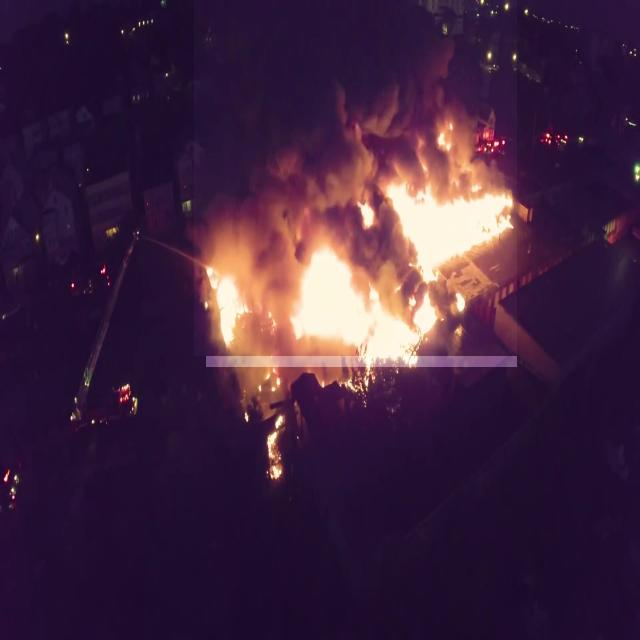Fire: (194, 0, 517, 356), (206, 190, 517, 368)
